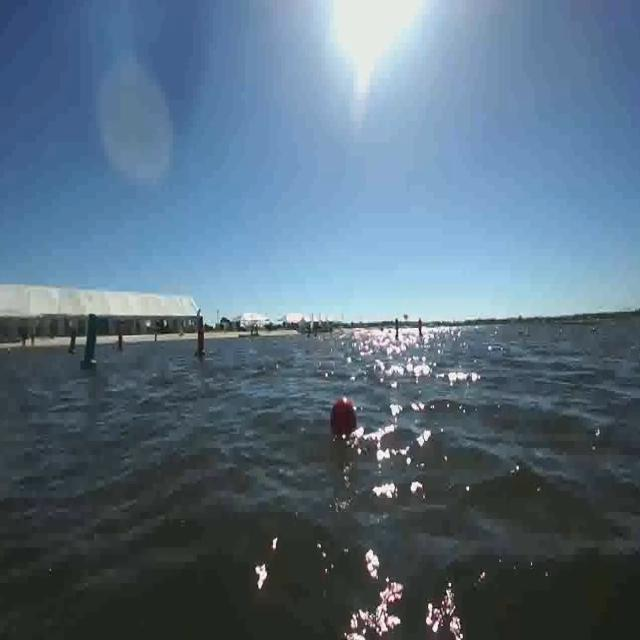green-column-buoy: (79, 314, 101, 370), (68, 328, 79, 356)
red-buoy: (331, 395, 359, 440)
red-column-buoy: (194, 310, 207, 360), (116, 327, 126, 355)
